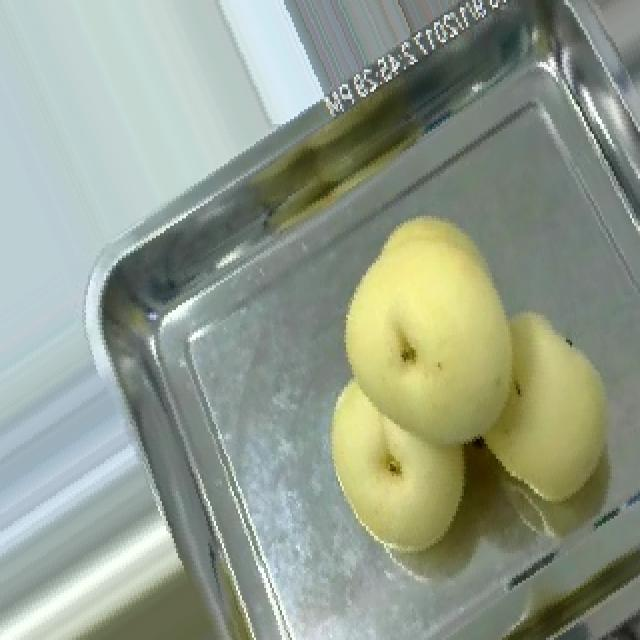Fruit: (312, 191, 542, 479), (452, 293, 640, 531), (300, 372, 496, 576)
